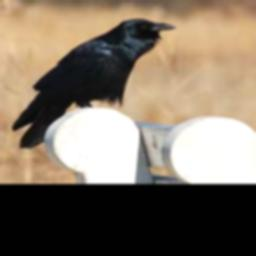Crow: (11, 18, 177, 150)
